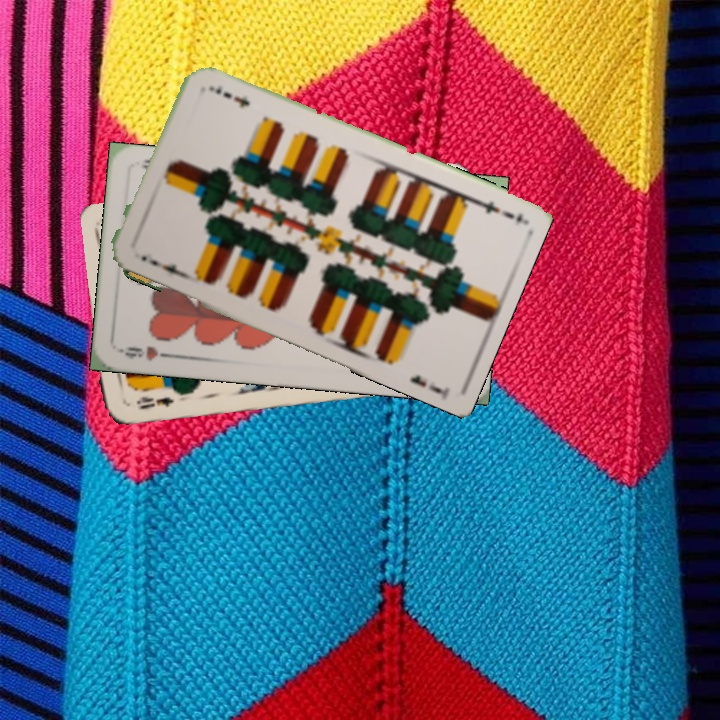E7: (137, 251, 187, 280), (468, 194, 517, 222)
EO: (133, 392, 176, 412)
H9: (116, 342, 175, 363)
